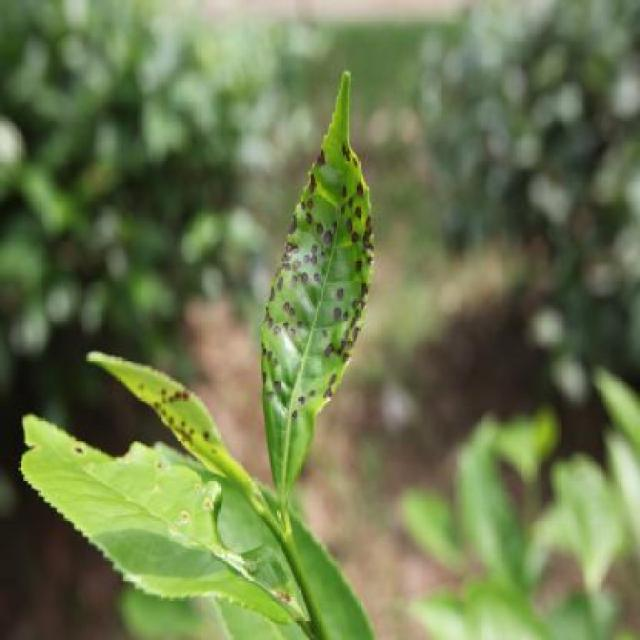Tea Mosquito bug infested leaf: (257, 99, 375, 466), (105, 346, 212, 443)
